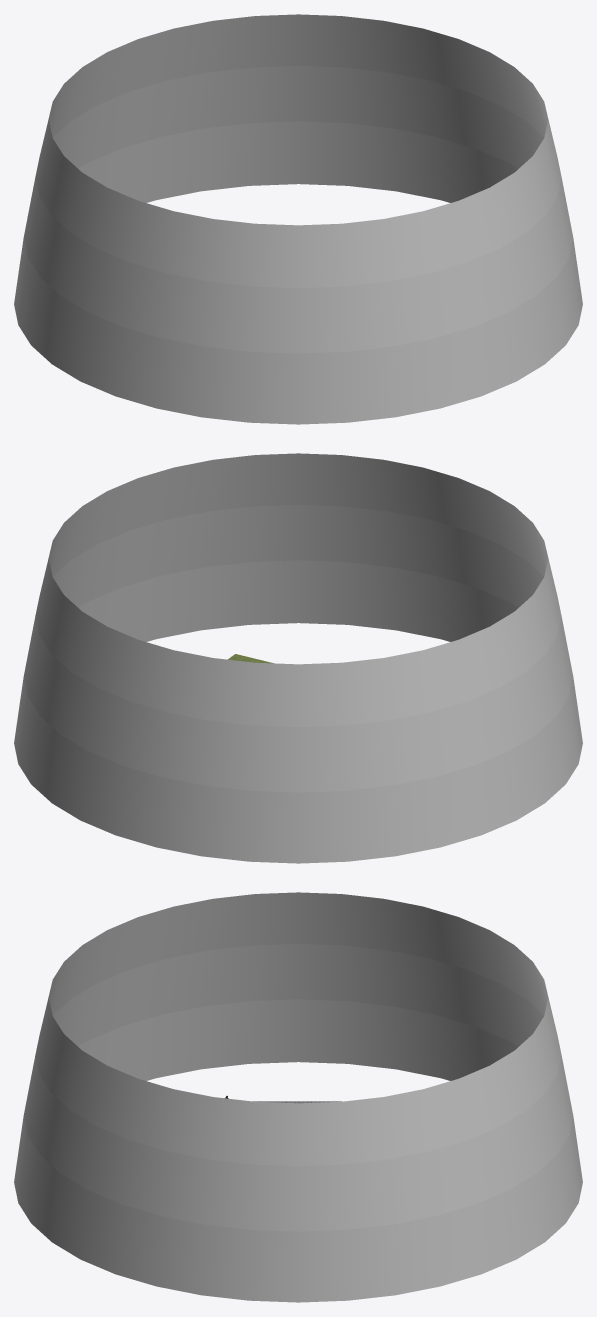
Rendered from Example_Track_A.fbx.
3 renders of one model, top to bottom at view 1: azimuth 30°, elevation 25°; view 2: azimuth 150°, elevation 25°; view 3: azimuth 270°, elevation 25°, orthographic.
Visible parts, largest first — view 1: SkyDome; view 2: SkyDome; view 3: SkyDome.
Boxes of the visible parts, bbox=[...] form: SkyDome: bbox=[14, 14, 582, 424]; SkyDome: bbox=[14, 453, 582, 863]; SkyDome: bbox=[14, 892, 582, 1302].
Size of the model in its own units: 460 by 165 by 460.
